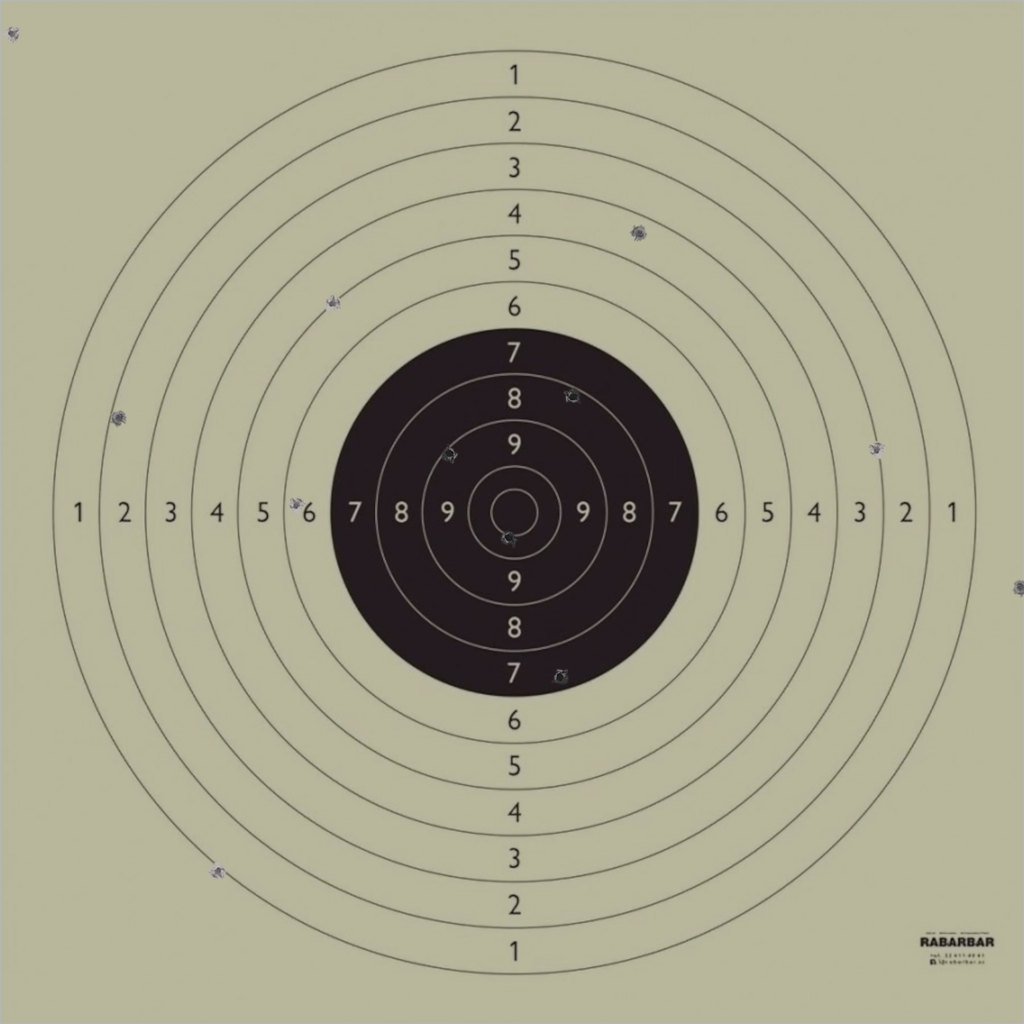0 punktow: (1011, 578, 1024, 597)
1 punkt: (209, 862, 227, 880)
10 punktow: (500, 529, 518, 547)
2 punkty: (110, 409, 128, 427)
3 punkty: (867, 441, 886, 459)
4 punkty: (630, 224, 649, 243)
5 punktow: (323, 294, 342, 313)
6 punktow: (287, 496, 306, 514)
7 punktow: (551, 668, 569, 686)
8 punktow: (564, 388, 582, 406)
9 punktow: (441, 444, 459, 463)
